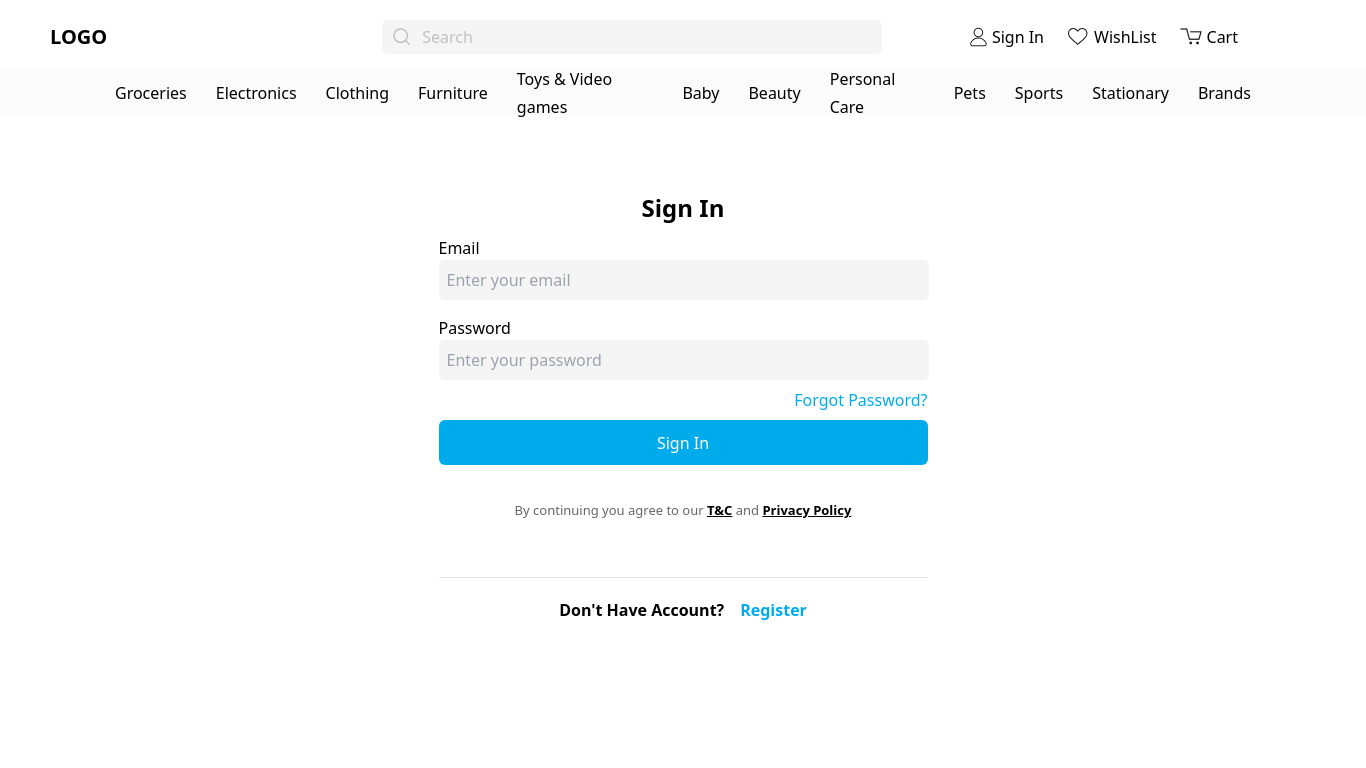
Scenario: Authentication › should display error message on invalid login
Type "menna@34ml.com" into the field with id "email" at (684,280), box left=439, top=260, right=929, bottom=300
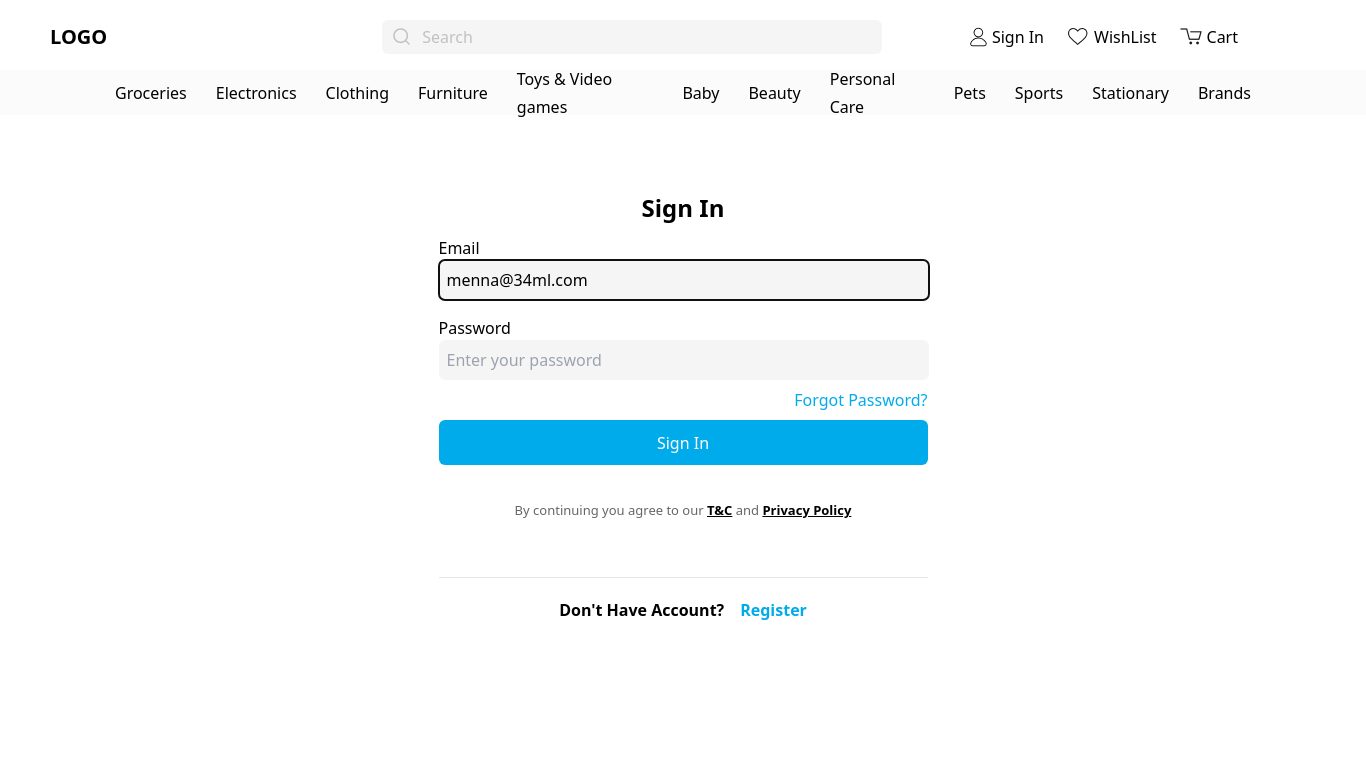
Type "password123" into the password field labelled "Password" at (684,360), box left=439, top=340, right=929, bottom=380
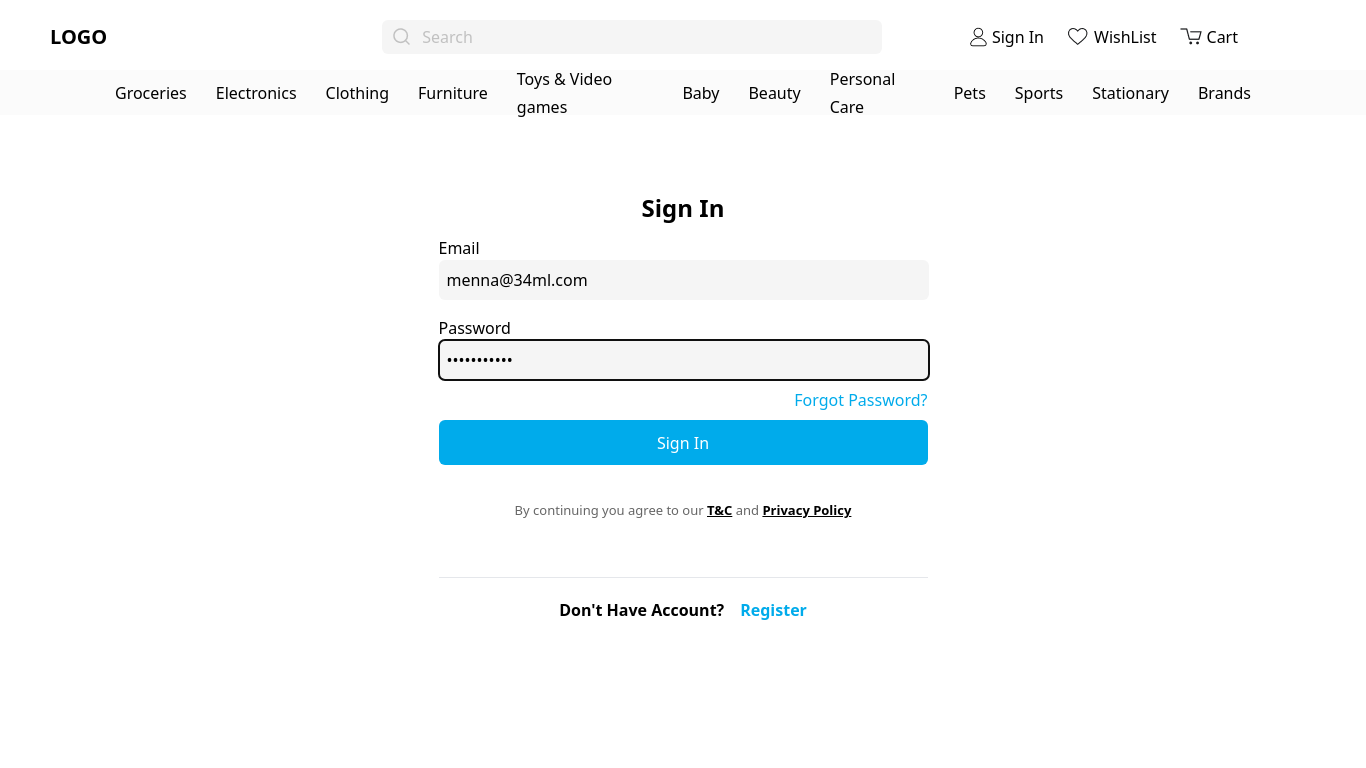
Click the button with id "sign-in-btn" at (684,443), box left=439, top=420, right=928, bottom=465
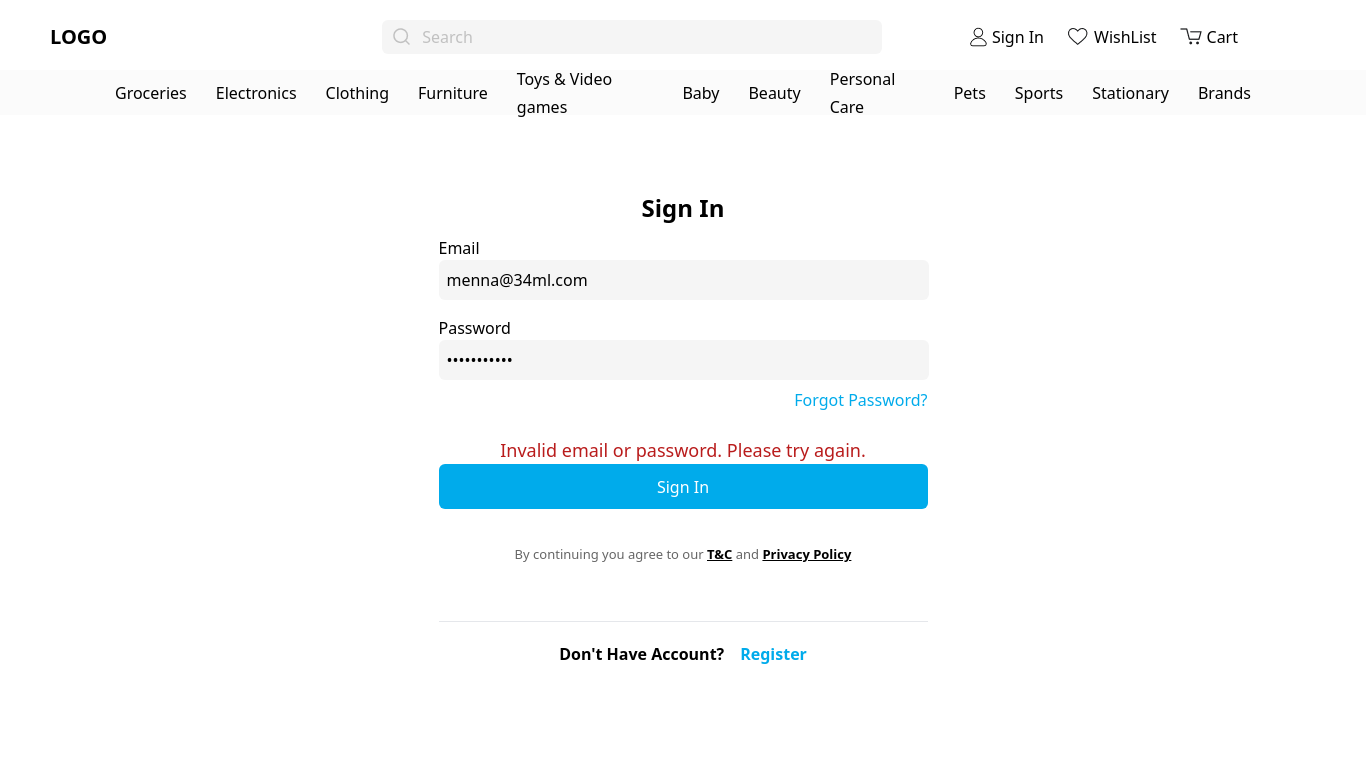
Expected: the text "Invalid email or password" is shown, left=500, top=438, right=866, bottom=462
